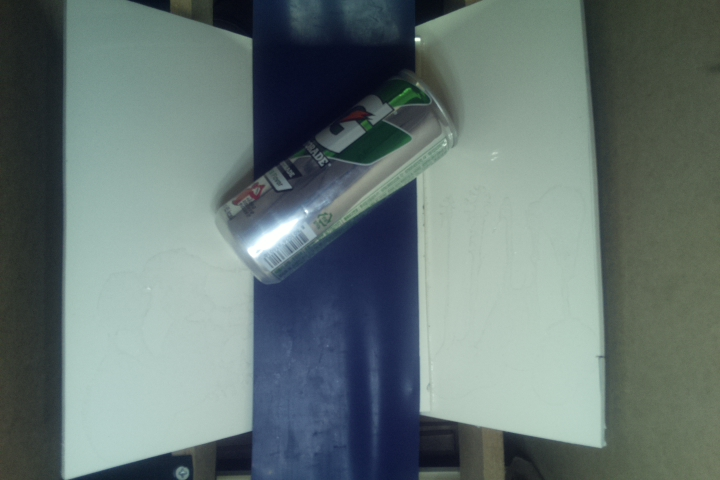can: (215, 66, 460, 287)
